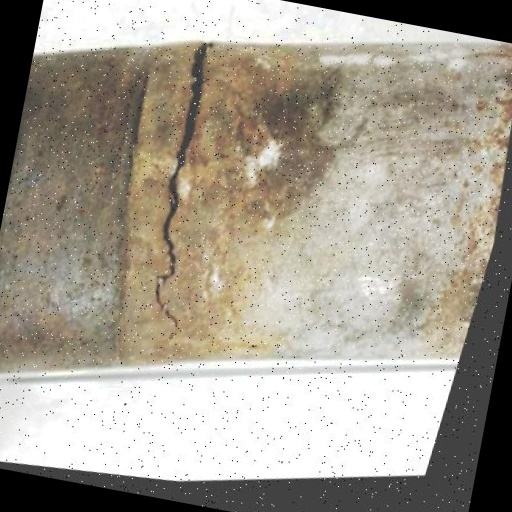crack: (89, 20, 278, 364)
